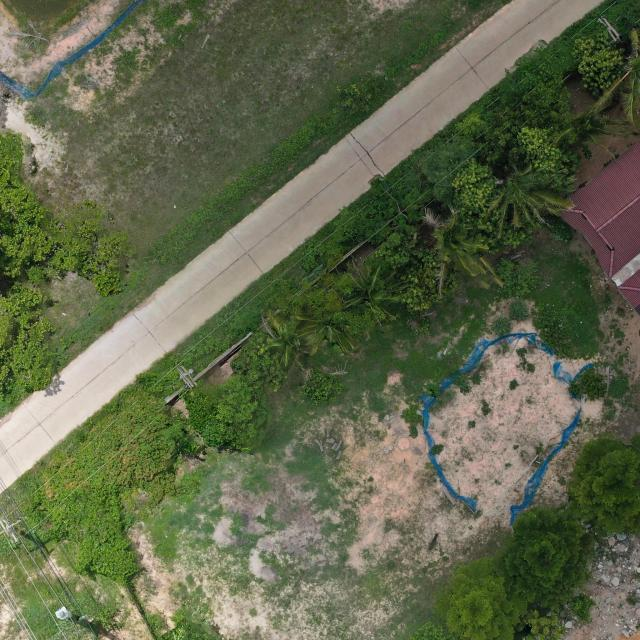Tree: (486, 504, 590, 608), (431, 558, 530, 640), (566, 435, 640, 536), (422, 207, 507, 294), (485, 160, 576, 240), (179, 376, 270, 455), (586, 28, 640, 126), (339, 258, 413, 323), (573, 29, 624, 98), (259, 308, 312, 369), (293, 314, 359, 357)
